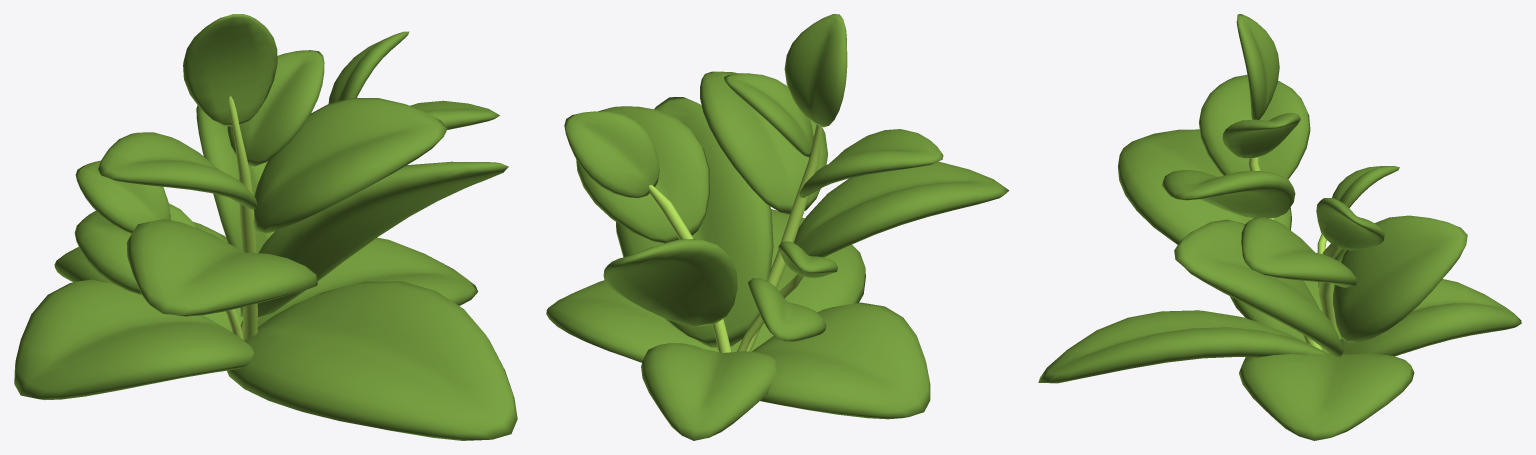
The model's file is Sunflower_1.fbx.
The picture shows the model from 3 angles, left to right: view 1: azimuth 30°, elevation 25°; view 2: azimuth 150°, elevation 25°; view 3: azimuth 270°, elevation 25°; orthographic projection. The views are drawn at different scales.
Parts seen in each view (by area): view 1: Leaf.138, Leaf.135, Leaf.143, Leaf.139, Leaf.140, Leaf.193, Leaf.142, Leaf.141, Leaf.136, Leaf.195, Leaf.190, Leaf.144 (+4 smaller); view 2: Leaf.135, Leaf.140, Leaf.139, Leaf.137, Leaf.144, Leaf.189, Leaf.143, Leaf.136, Leaf.194, Leaf.193, Leaf.142, Leaf.138 (+6 smaller); view 3: Leaf.136, Leaf.138, Leaf.144, Leaf.140, Leaf.139, Leaf.137, Leaf.142, Leaf.143, Leaf.189, Leaf.193, Leaf.194, Leaf.141 (+3 smaller).
Part boxes in pixels (bbox=[...]): Leaf.138: bbox=[227, 281, 517, 440]; Leaf.135: bbox=[14, 279, 254, 399]; Leaf.143: bbox=[253, 98, 447, 232]; Leaf.139: bbox=[126, 219, 317, 316]; Leaf.140: bbox=[240, 161, 508, 317]; Leaf.193: bbox=[183, 14, 277, 126]; Leaf.142: bbox=[98, 132, 256, 209]; Leaf.141: bbox=[227, 50, 324, 166]; Leaf.136: bbox=[257, 237, 478, 327]; Leaf.195: bbox=[75, 160, 170, 233]; Leaf.190: bbox=[74, 203, 197, 294]; Leaf.144: bbox=[196, 105, 274, 252]; Leaf.135: bbox=[752, 302, 930, 419]; Leaf.140: bbox=[616, 97, 773, 347]; Leaf.139: bbox=[794, 161, 1009, 257]; Leaf.137: bbox=[641, 343, 777, 440]; Leaf.144: bbox=[603, 239, 737, 326]; Leaf.189: bbox=[576, 106, 709, 243]; Leaf.143: bbox=[700, 71, 827, 214]; Leaf.136: bbox=[546, 280, 718, 362]; Leaf.194: bbox=[564, 111, 659, 198]; Leaf.193: bbox=[784, 14, 847, 127]; Leaf.142: bbox=[799, 129, 943, 197]; Leaf.138: bbox=[716, 209, 865, 352]; Leaf.136: bbox=[1239, 353, 1414, 440]; Leaf.138: bbox=[1038, 310, 1327, 383]; Leaf.144: bbox=[1333, 215, 1467, 342]; Leaf.140: bbox=[1174, 219, 1343, 356]; Leaf.139: bbox=[1118, 129, 1291, 244]; Leaf.137: bbox=[1340, 279, 1521, 356]; Leaf.142: bbox=[1199, 75, 1310, 179]; Leaf.143: bbox=[1162, 170, 1295, 218]; Leaf.189: bbox=[1241, 217, 1356, 287]; Leaf.193: bbox=[1236, 14, 1279, 119]; Leaf.194: bbox=[1316, 198, 1384, 250]; Leaf.141: bbox=[1222, 113, 1300, 158].
Bounding box in the file's own units: 0.5873 × 0.6705 × 0.4955.
